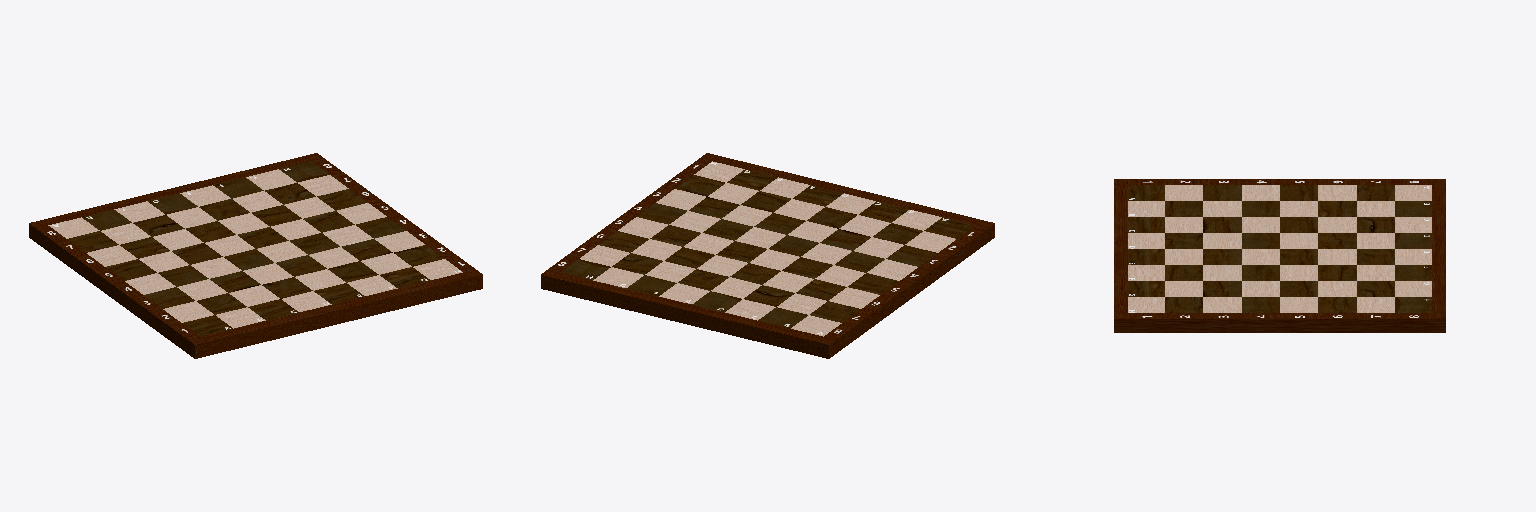
3 views of the same model, side by side, from view 1: azimuth 30°, elevation 25°; view 2: azimuth 150°, elevation 25°; view 3: azimuth 270°, elevation 25° (orthographic).
Visible parts, largest first — view 1: CHESSBOARD; view 2: CHESSBOARD; view 3: CHESSBOARD.
Part boxes in pixels (left/top/right/bottom): CHESSBOARD: left=29, top=153, right=482, bottom=358; CHESSBOARD: left=541, top=153, right=994, bottom=358; CHESSBOARD: left=1114, top=179, right=1445, bottom=332.
Bounding box in the file's own units: 8.7 × 0.4079 × 8.7.
1 materials, 1 textured.